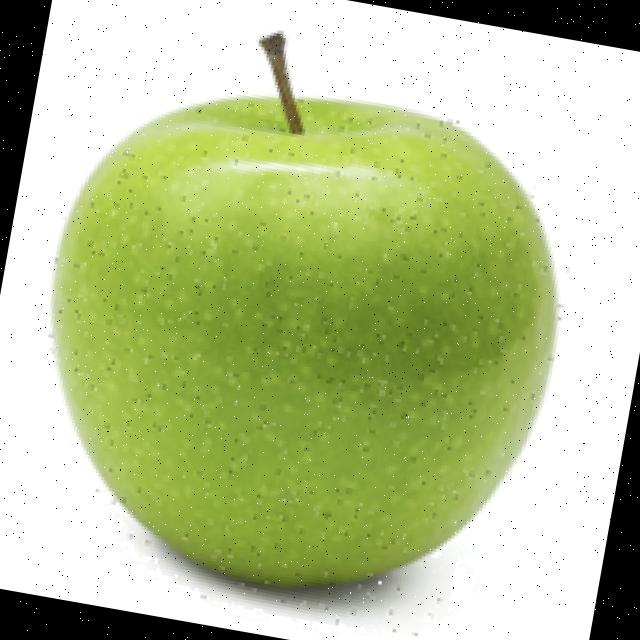apple: (44, 25, 564, 636)
